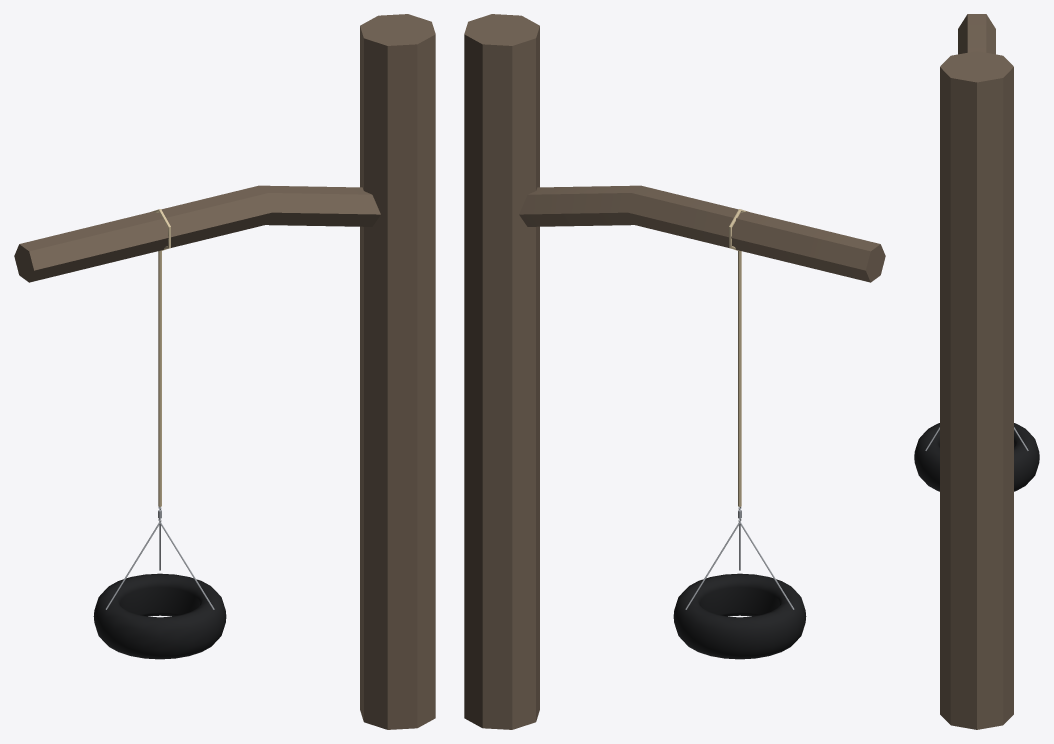
File: swing_tire.mid.glb
The picture shows the model from 3 angles, left to right: view 1: azimuth 30°, elevation 25°; view 2: azimuth 150°, elevation 25°; view 3: azimuth 270°, elevation 25°; orthographic projection. The views are drawn at different scales.
Visible parts, largest first — view 1: swing_tire, spin_swing_tire, swing_swing_tire_y; view 2: swing_tire, spin_swing_tire, swing_swing_tire_y; view 3: swing_tire, spin_swing_tire.
Boxes of the visible parts, x1,y1,x2,y2 form: swing_tire: [14, 14, 435, 729]; spin_swing_tire: [93, 514, 226, 659]; swing_swing_tire_y: [158, 251, 161, 514]; swing_tire: [464, 14, 885, 729]; spin_swing_tire: [673, 514, 806, 659]; swing_swing_tire_y: [738, 251, 741, 514]; swing_tire: [940, 14, 1013, 729]; spin_swing_tire: [914, 423, 1039, 491].
Size of the model in its own units: 2.4 by 3.85 by 0.676.
